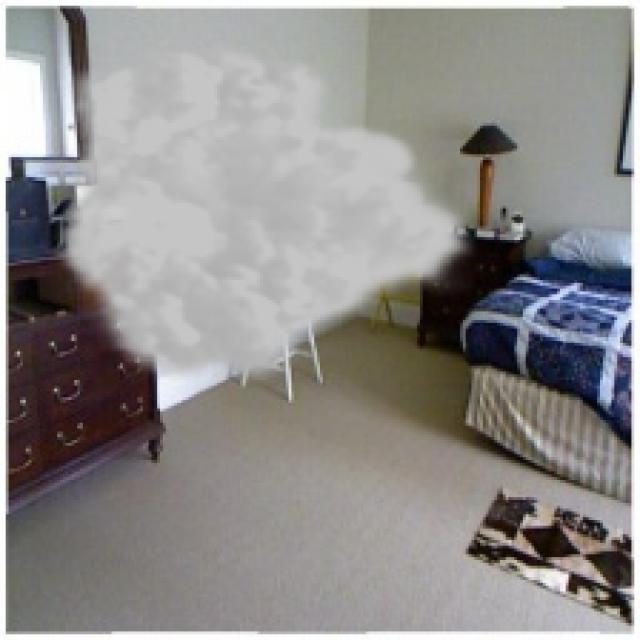smoke: (54, 37, 480, 392)
